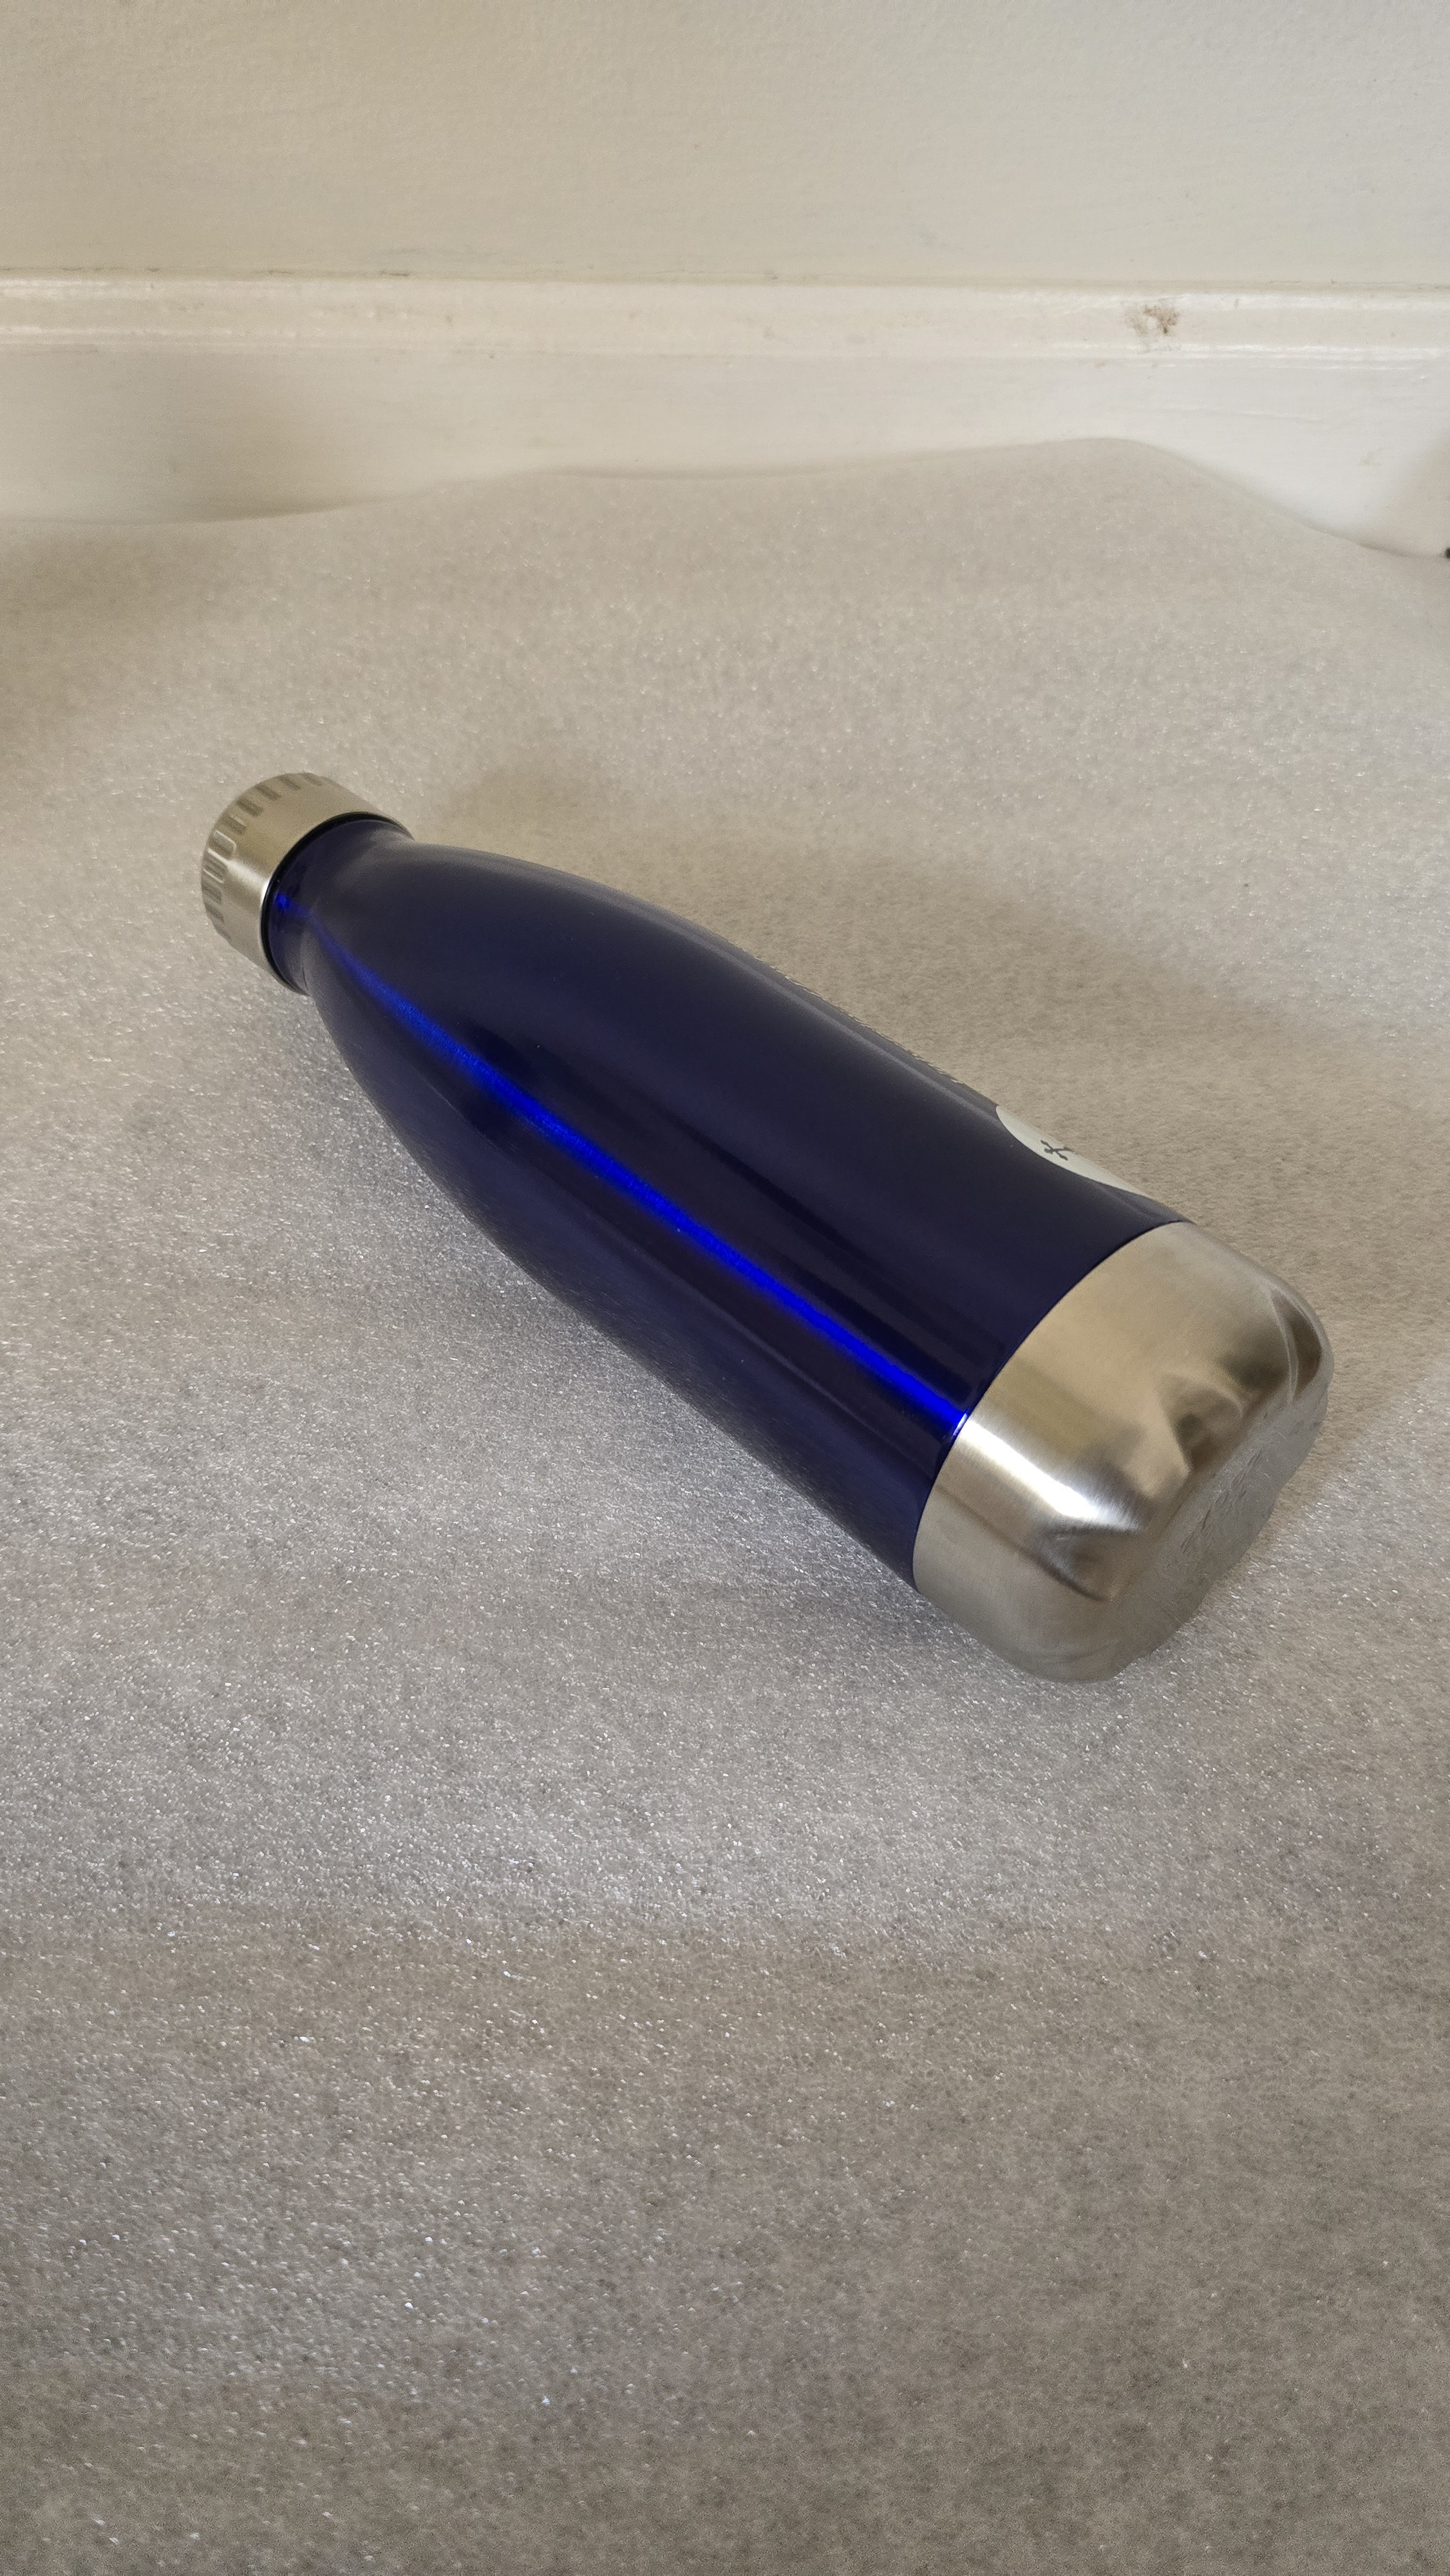bottle: (90, 671, 1365, 1716)
